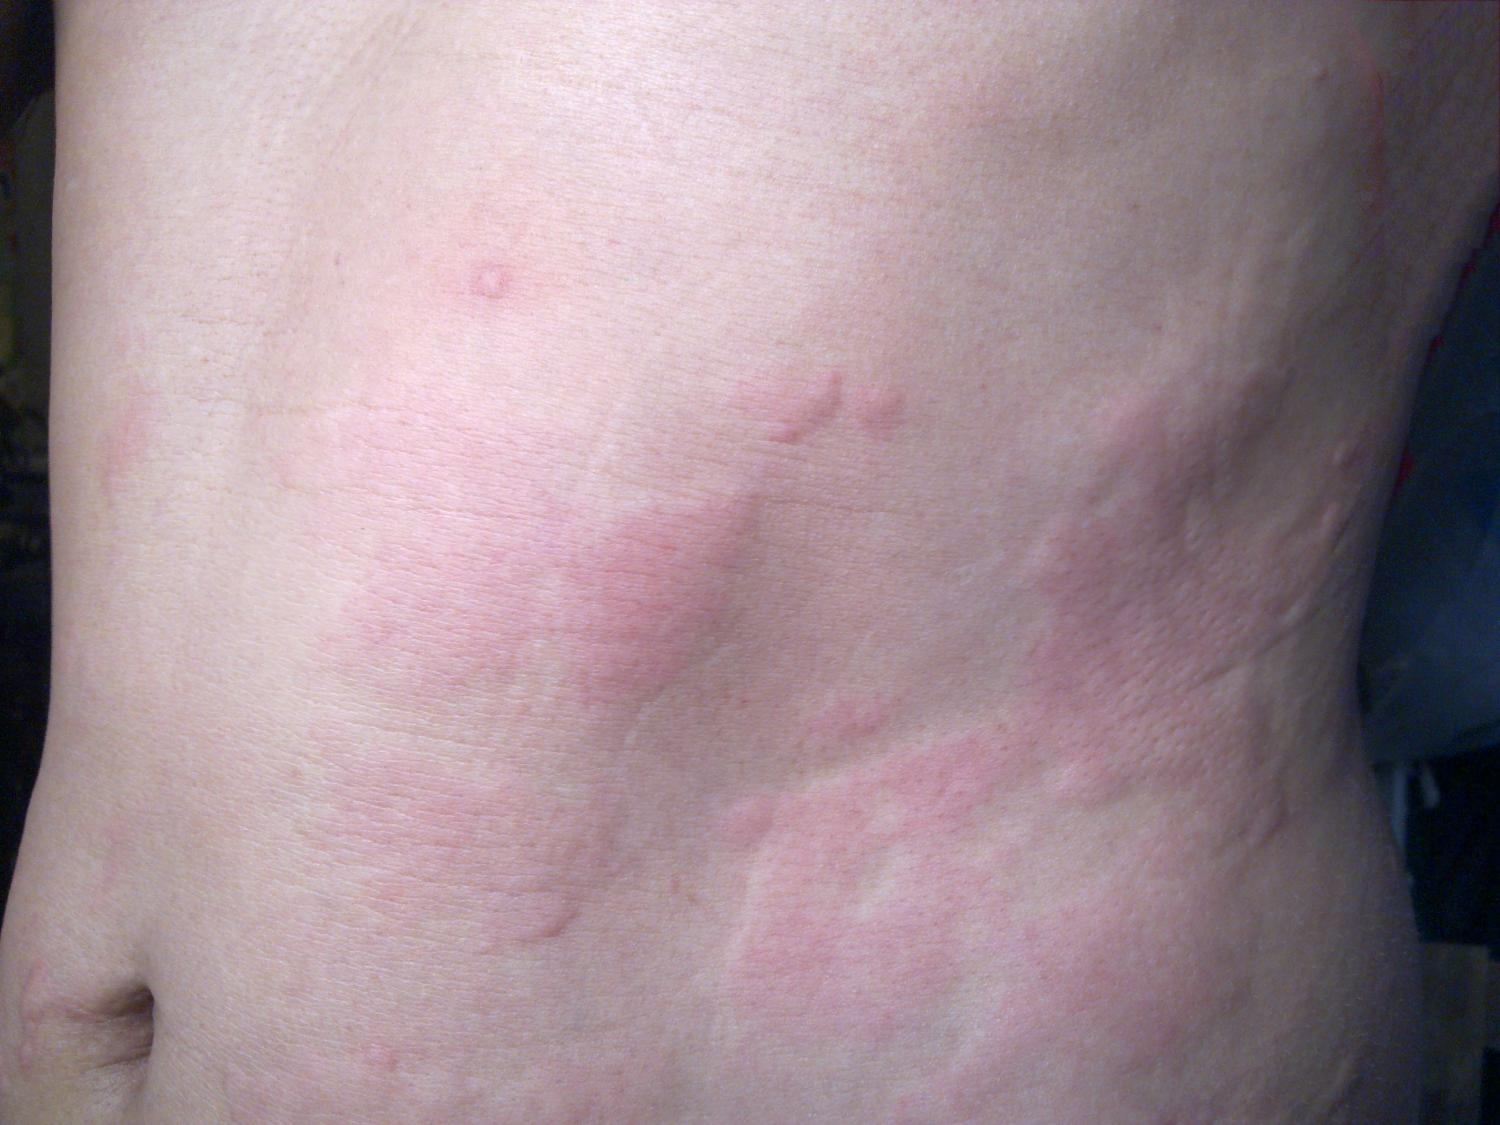Hives: (369, 472, 772, 921), (1004, 360, 1286, 895)
